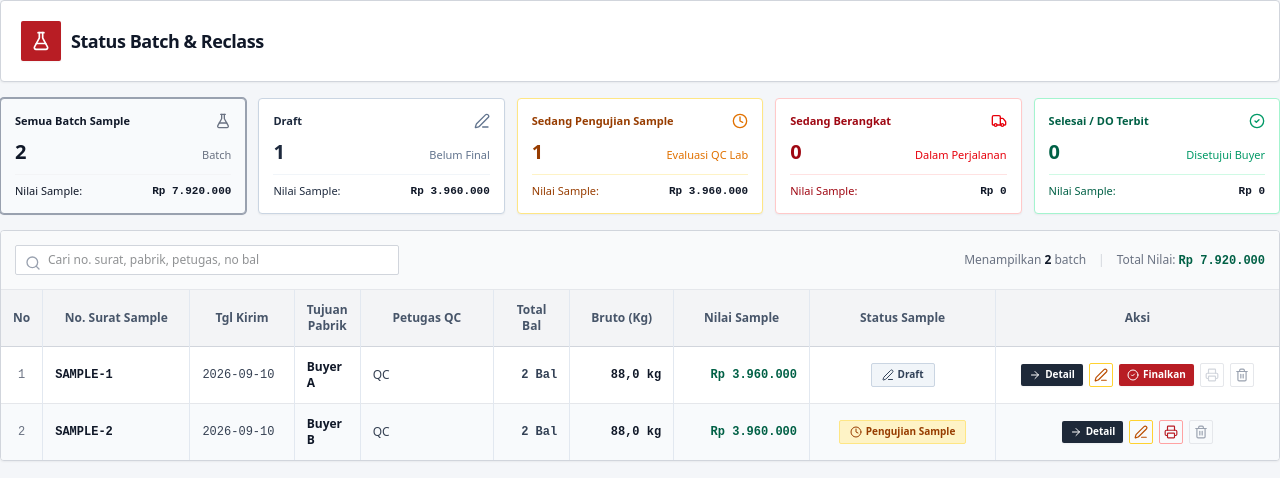
Test: Status Batch & Reclass: batch Draft › kartu Draft menyaring daftar dan batch final tidak ikut
Click the text "Belum Final". click: (460, 155)
box: [429, 146, 490, 163]
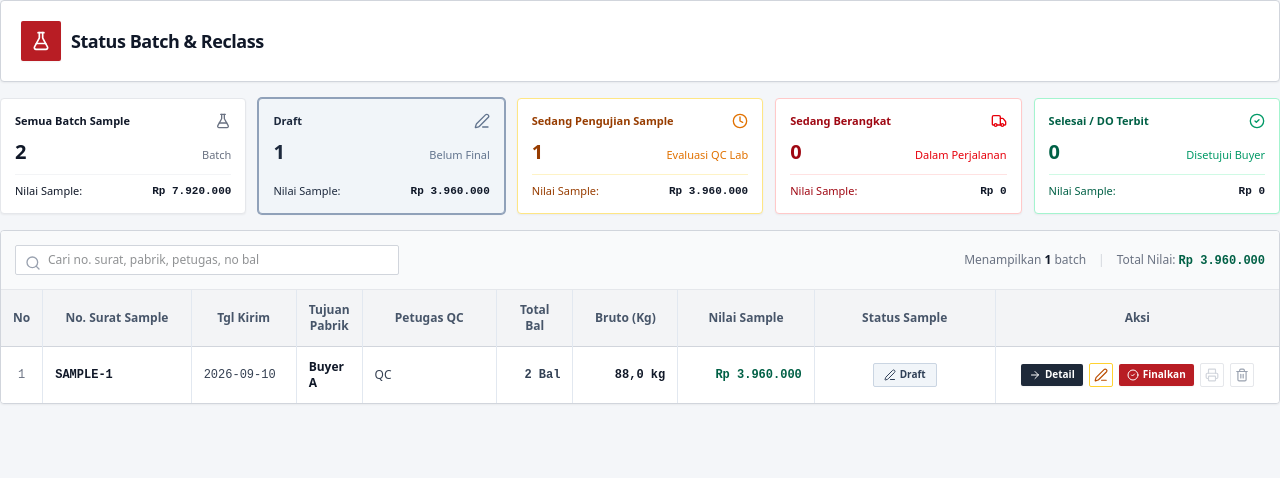
Check: the text "SAMPLE-1" is shown, box [55, 368, 113, 382]
Check: the text "SAMPLE-2" is gone
